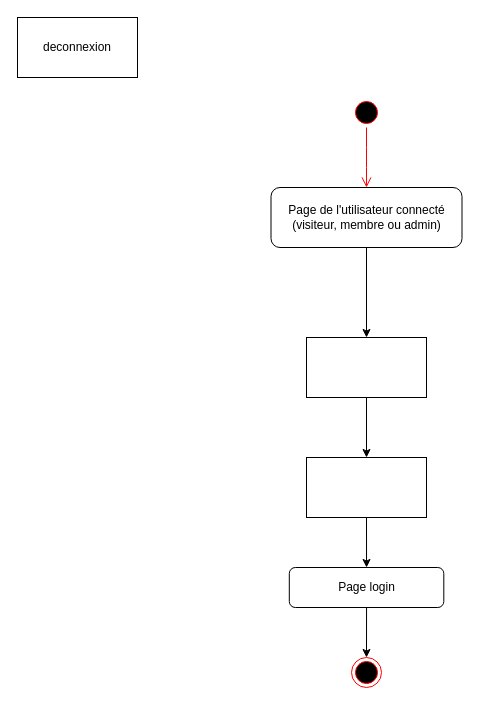
Image size: 480x705. Some labels were removed from this diagram. The shapes that lost their labels are listed below. From the top down, each one's centre as x and y in pixels, then its label:
At (366,367): "bouton deconnexion le controleur envois la requete à la bdd".
At (366,487): "Utilisateur deconnécté".
